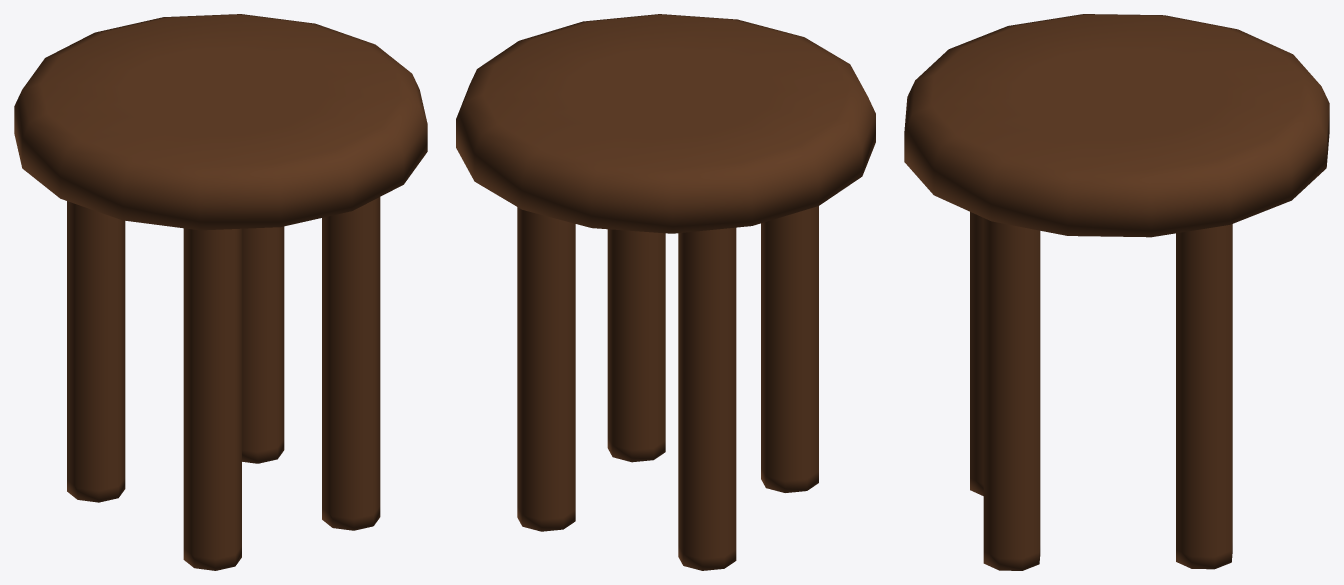
Rendered from A-TaburetePivoteCentrado.fbx.
3 views of the same model, side by side, from view 1: azimuth 30°, elevation 25°; view 2: azimuth 150°, elevation 25°; view 3: azimuth 270°, elevation 25° (orthographic). The views are drawn at different scales.
Visible parts, largest first — view 1: Taburete_A.005; view 2: Taburete_A.005; view 3: Taburete_A.005.
Boxes of the visible parts, x1=… form: Taburete_A.005: x1=14, y1=14, x2=427, y2=570; Taburete_A.005: x1=456, y1=14, x2=875, y2=570; Taburete_A.005: x1=904, y1=14, x2=1329, y2=570.
Bounding box in the file's own units: 32.13 × 35.47 × 32.13.
